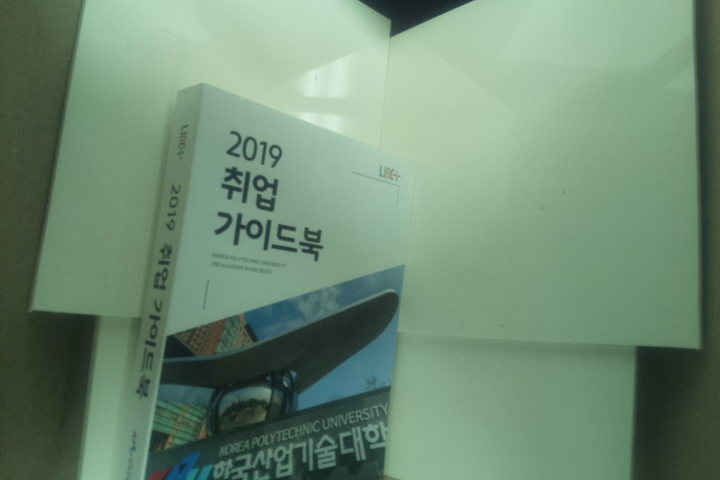book: (114, 82, 422, 480)
